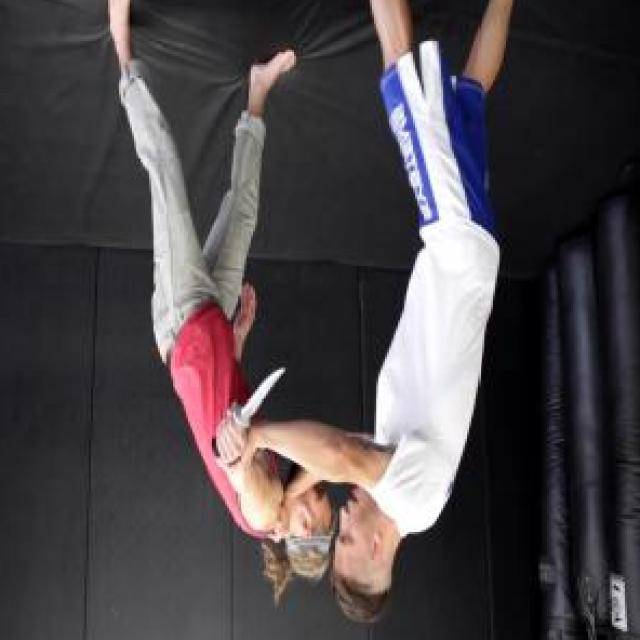knife: (208, 357, 290, 469)
